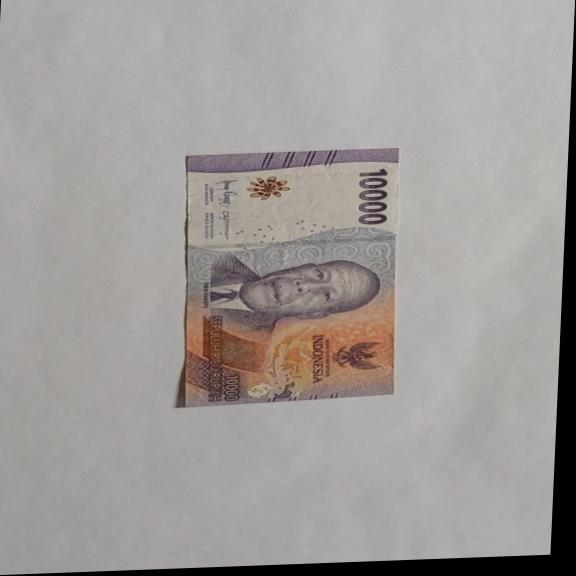Kertas: (174, 147, 406, 408), (354, 167, 392, 226)
